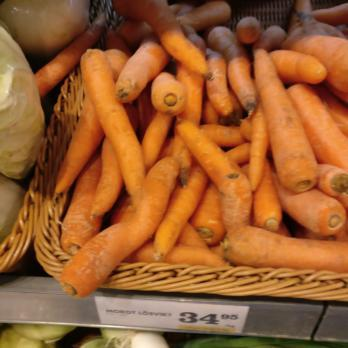Carrot: (84, 45, 348, 265), (112, 0, 348, 49)
